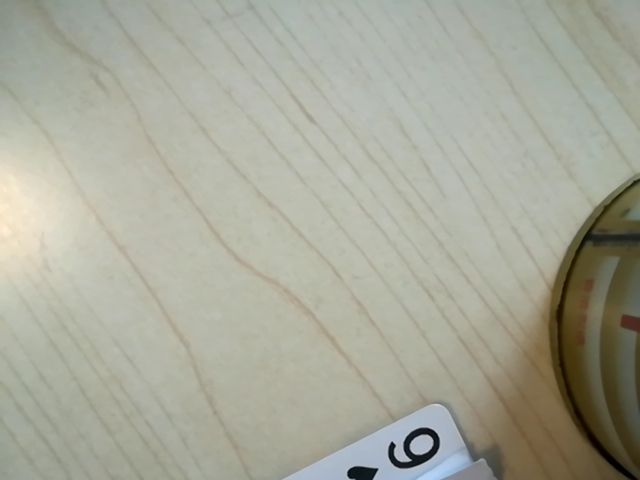ht 9: (328, 418, 460, 478)
